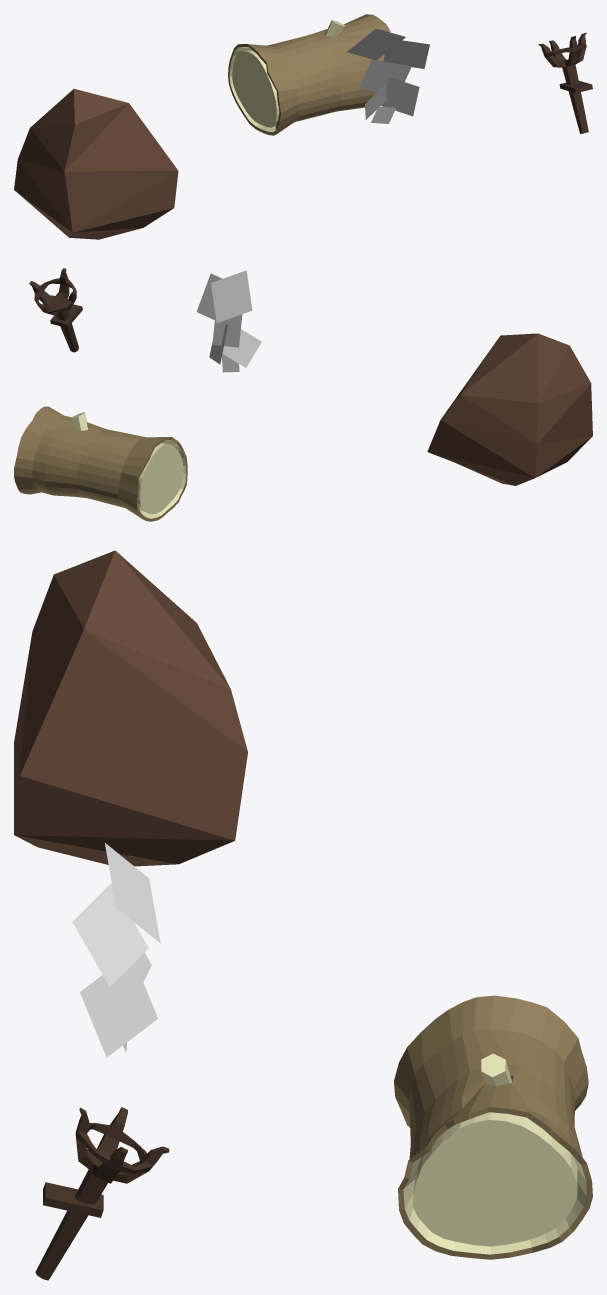
Rendered from deciratuib.fbx.
3 renders of one model, top to bottom at view 1: azimuth 30°, elevation 25°; view 2: azimuth 150°, elevation 25°; view 3: azimuth 270°, elevation 25°, orthographic. The views are drawn at different scales.
Visible parts, largest first — view 1: rock1, Cylinder, leaves, torch; view 2: rock1, Cylinder, leaves, torch; view 3: rock1, Cylinder, leaves, torch.
Part boxes in pixels (x1,y1,x2,y2): rock1: (14, 88, 178, 239); Cylinder: (228, 14, 390, 135); leaves: (347, 28, 429, 123); torch: (538, 32, 592, 133); rock1: (427, 333, 592, 485); Cylinder: (14, 406, 187, 521); leaves: (196, 270, 261, 372); torch: (29, 268, 82, 352); rock1: (14, 550, 247, 866); Cylinder: (394, 995, 592, 1259); leaves: (72, 843, 160, 1057); torch: (35, 1107, 169, 1280).
Size of the model in its own units: 2574 by 824 by 1270.
